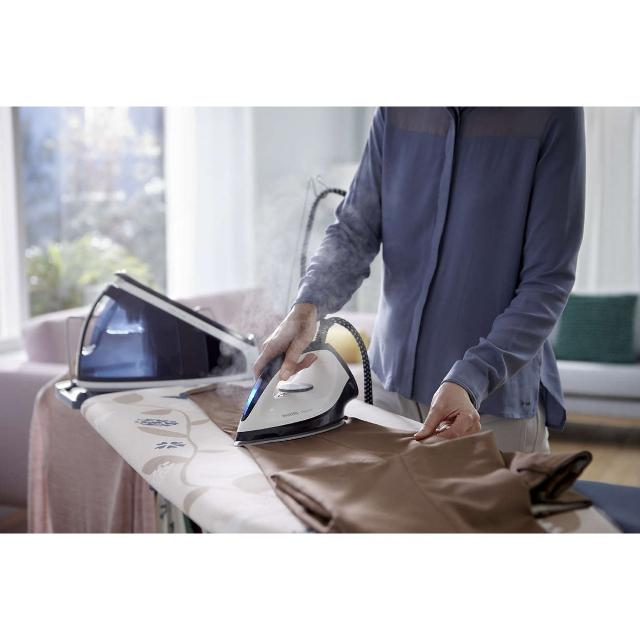Clothes-Iron: (228, 319, 378, 449)
